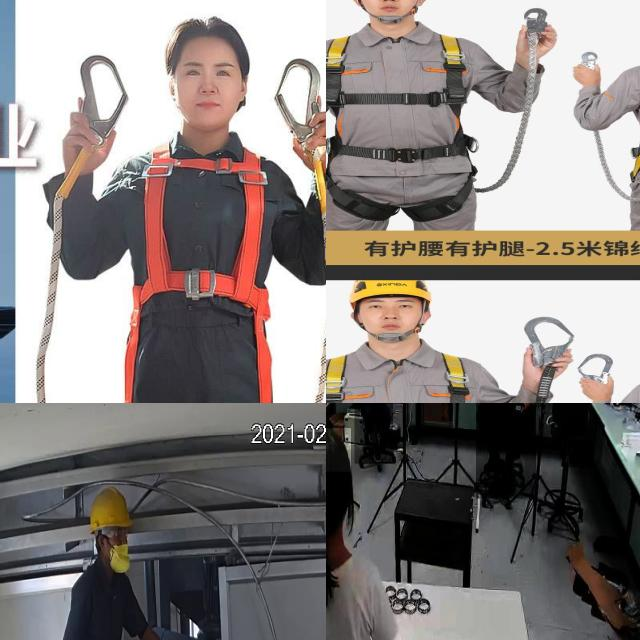Harness: (121, 140, 276, 403), (326, 33, 468, 221), (326, 353, 469, 403), (68, 52, 130, 154), (271, 53, 326, 162), (522, 314, 575, 374), (518, 6, 559, 56), (576, 352, 618, 388)
No_Ear-Protection: (97, 532, 108, 553)
No_Glasses: (178, 60, 238, 86), (365, 300, 417, 312)
face_mask: (110, 544, 130, 573)
glasses: (96, 526, 128, 538)
hand_noglove: (512, 403, 525, 414)
head_helmet: (90, 486, 133, 532)
head_nohelmet: (326, 428, 351, 472)
person: (326, 438, 398, 640), (475, 403, 536, 499), (354, 403, 393, 463)
